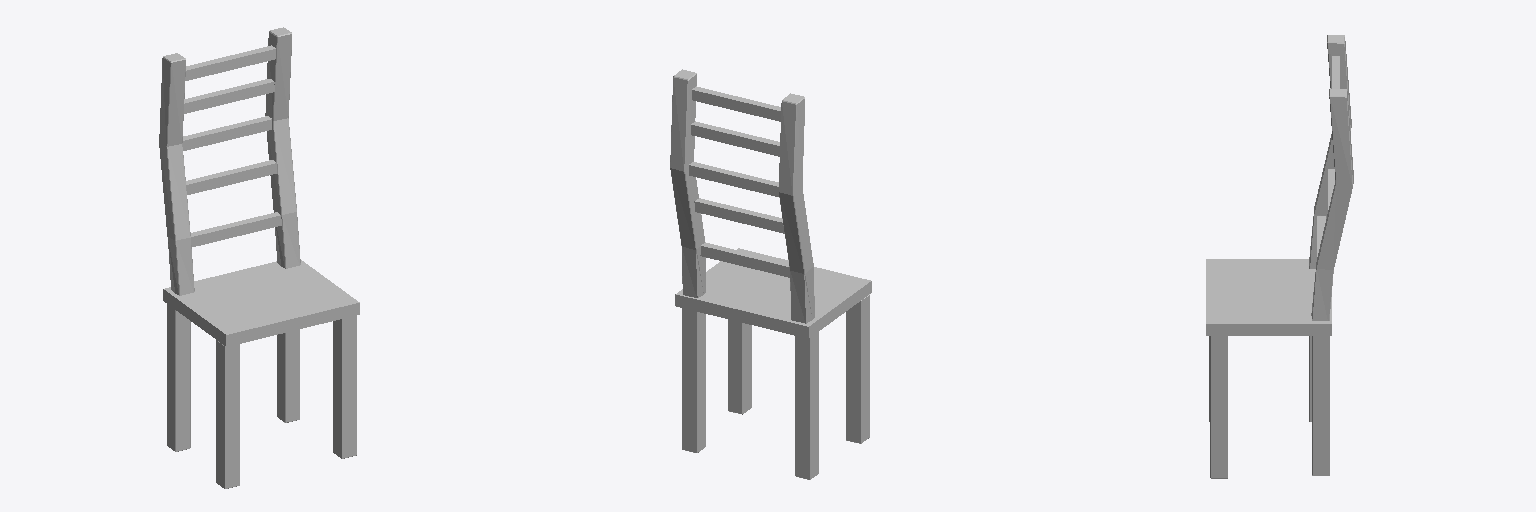
File: Scaun.obj
3 views of the same model, side by side, from view 1: azimuth 30°, elevation 25°; view 2: azimuth 150°, elevation 25°; view 3: azimuth 270°, elevation 25° (orthographic).
Parts seen in each view (by area): view 1: Sitting_Cube.003, Lump.005_Cube.009, Lump.004_Cube.008, Lump.003_Cube.006, Lump_Cube.002, Lump.002_Cube.005, Lump.001_Cube.004, Cube.003_Cube.012, Cube.005_Cube.014, Cube.006_Cube.015, Cube.002_Cube.011, Cube.004_Cube.013; view 2: Sitting_Cube.003, Lump.005_Cube.009, Lump.004_Cube.008, Lump.002_Cube.005, Lump.001_Cube.004, Lump.003_Cube.006, Lump_Cube.002, Cube.004_Cube.013, Cube.002_Cube.011, Cube.003_Cube.012, Cube.006_Cube.015, Cube.005_Cube.014; view 3: Sitting_Cube.003, Lump.004_Cube.008, Lump_Cube.002, Lump.001_Cube.004, Lump.005_Cube.009.
Boxes of the visible parts, x1,y1,x2,y2 form: Sitting_Cube.003: [163, 260, 359, 346]; Lump.005_Cube.009: [159, 53, 194, 295]; Lump.004_Cube.008: [265, 27, 300, 268]; Lump.003_Cube.006: [216, 340, 239, 488]; Lump_Cube.002: [333, 315, 356, 458]; Lump.002_Cube.005: [167, 304, 190, 451]; Lump.001_Cube.004: [277, 329, 299, 422]; Cube.003_Cube.012: [184, 79, 274, 113]; Cube.005_Cube.014: [186, 160, 276, 194]; Cube.006_Cube.015: [191, 212, 281, 246]; Cube.002_Cube.011: [185, 45, 275, 80]; Cube.004_Cube.013: [182, 116, 271, 150]; Sitting_Cube.003: [675, 248, 871, 338]; Lump.005_Cube.009: [779, 93, 814, 323]; Lump.004_Cube.008: [670, 69, 705, 297]; Lump.002_Cube.005: [795, 332, 818, 479]; Lump.001_Cube.004: [682, 308, 705, 452]; Lump.003_Cube.006: [846, 294, 869, 443]; Lump_Cube.002: [728, 319, 751, 414]; Cube.004_Cube.013: [689, 162, 778, 196]; Cube.002_Cube.011: [692, 86, 780, 121]; Cube.003_Cube.012: [691, 121, 779, 156]; Cube.006_Cube.015: [700, 242, 789, 277]; Cube.005_Cube.014: [694, 198, 784, 233]; Sitting_Cube.003: [1206, 259, 1331, 335]; Lump.004_Cube.008: [1311, 88, 1353, 320]; Lump_Cube.002: [1210, 336, 1227, 478]; Lump.001_Cube.004: [1312, 336, 1329, 475]; Lump.005_Cube.009: [1309, 35, 1351, 268].
Bounding box in the file's own units: 0.407 × 1.12 × 0.3926.